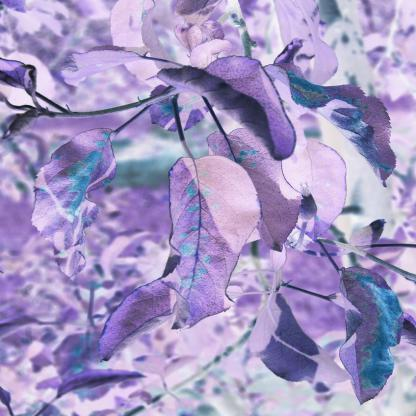Apple rust leaf: (276, 55, 410, 192), (157, 145, 250, 328), (200, 126, 318, 254), (37, 122, 124, 286), (339, 258, 398, 413)
